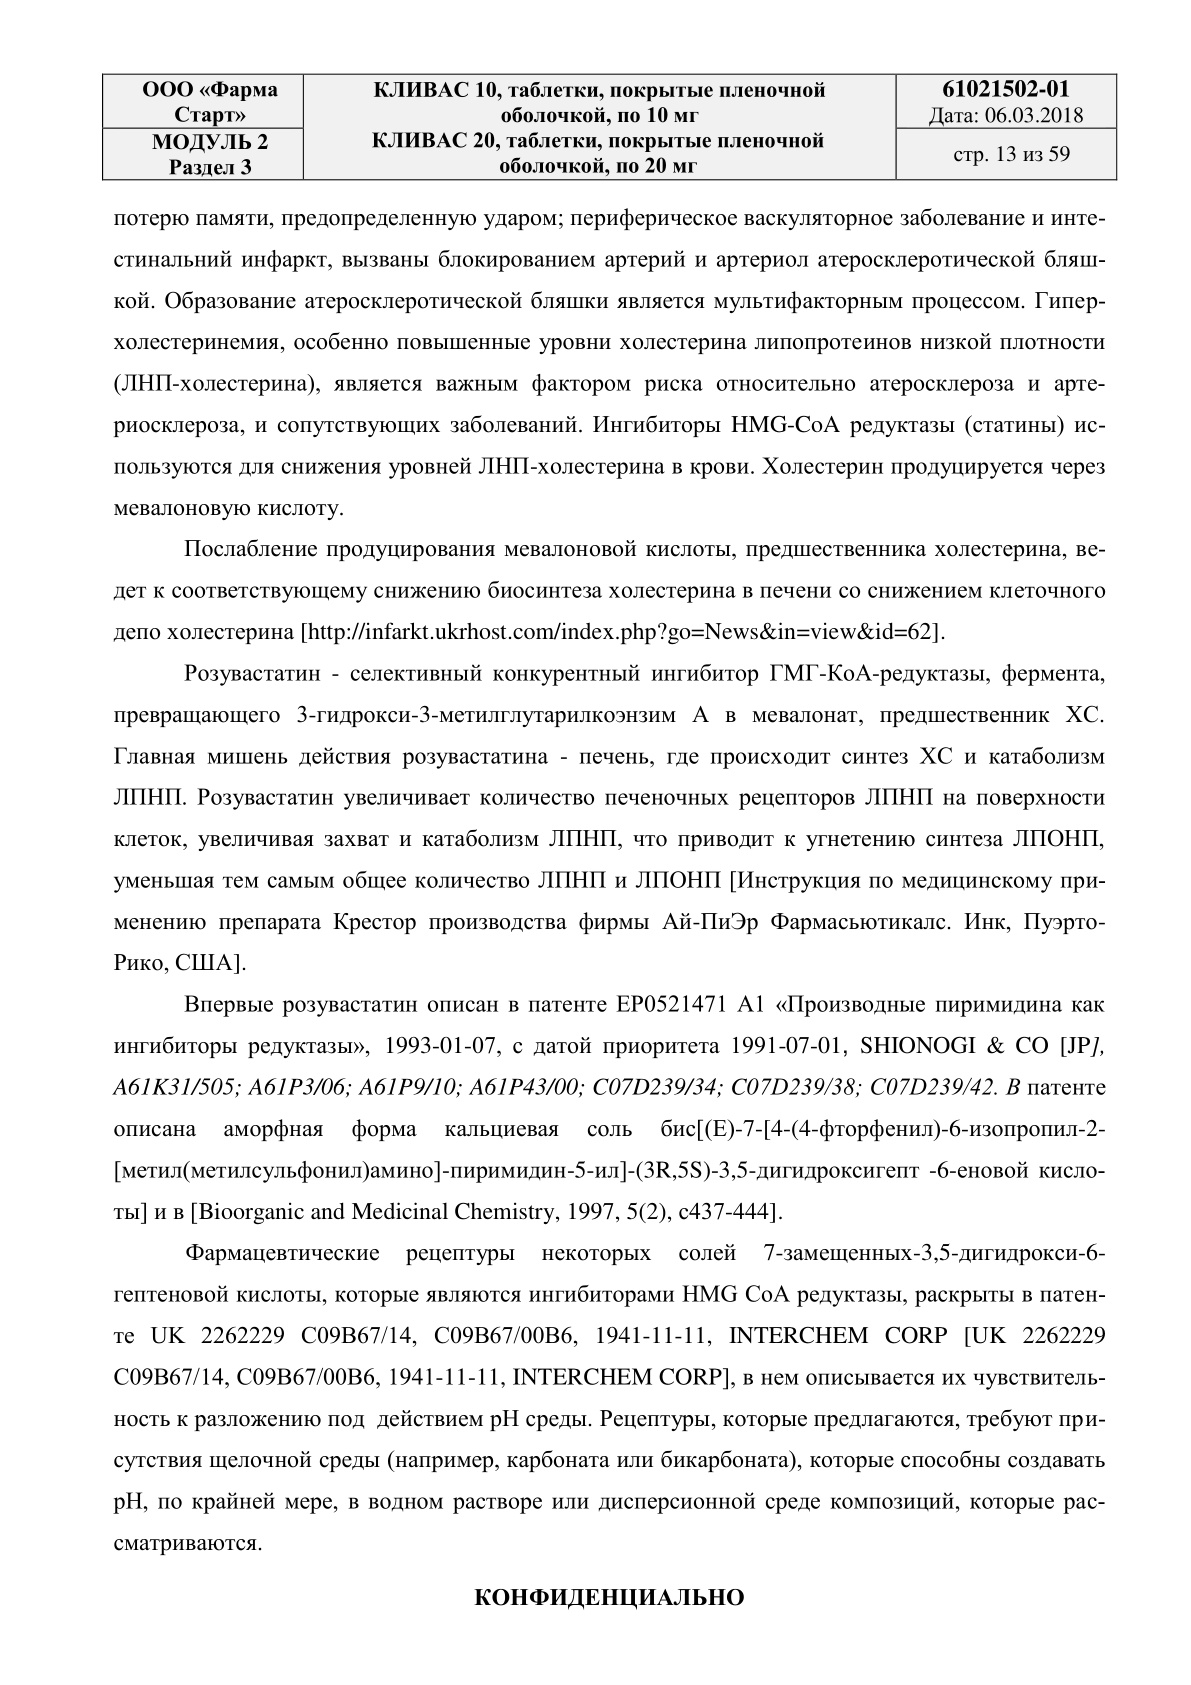merged_cells: (99, 72, 1119, 182)
